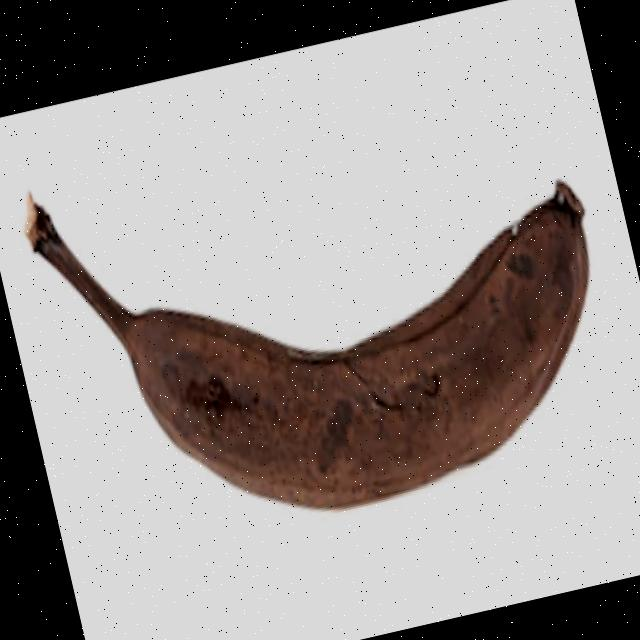Rotten: (6, 58, 640, 585)
